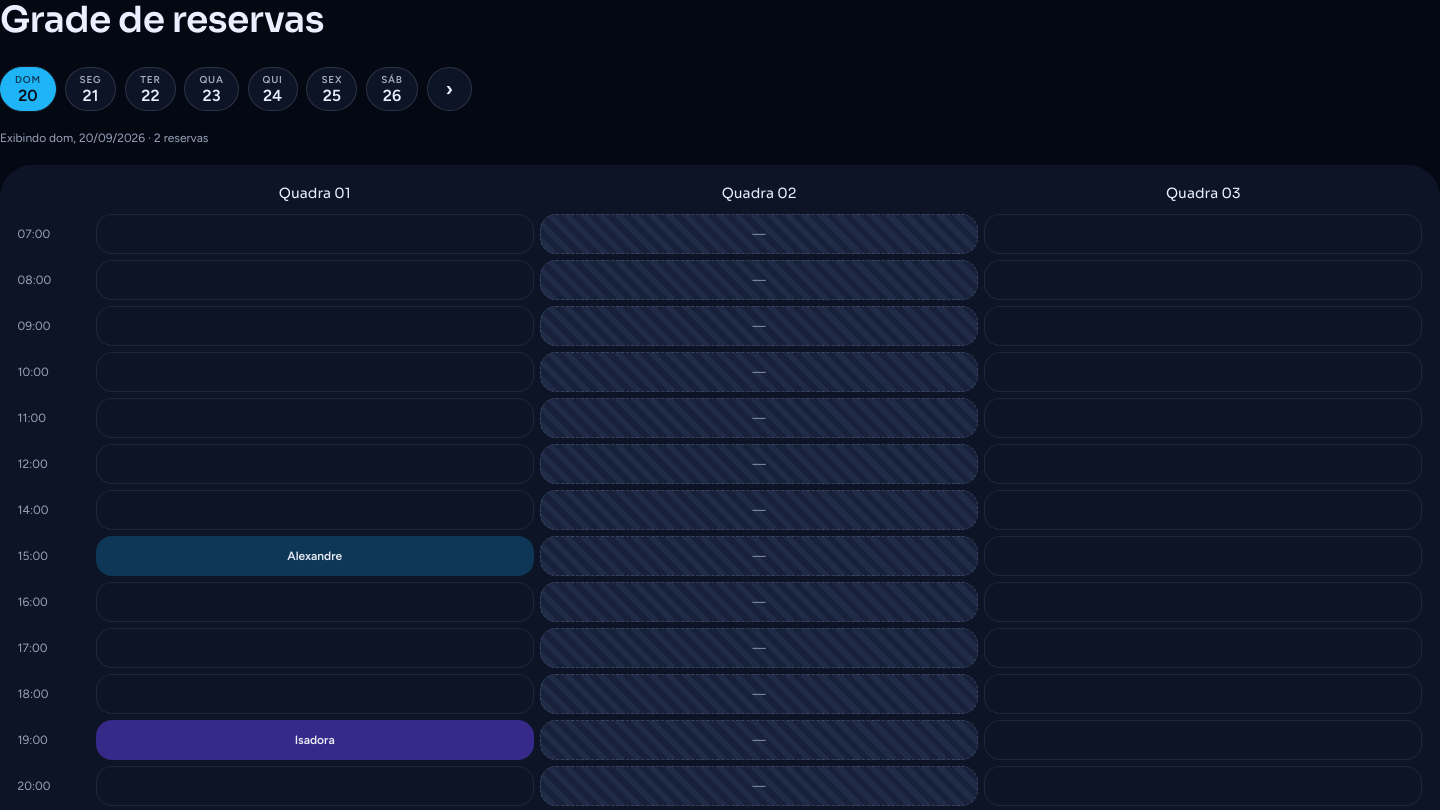
Test: GradeReservasPage › "Manter" volta ao detalhe sem cancelar
Click the button with aria-label "Quadra 01 às 15:00 — Alexandre": (315,556) [96,536,534,576]
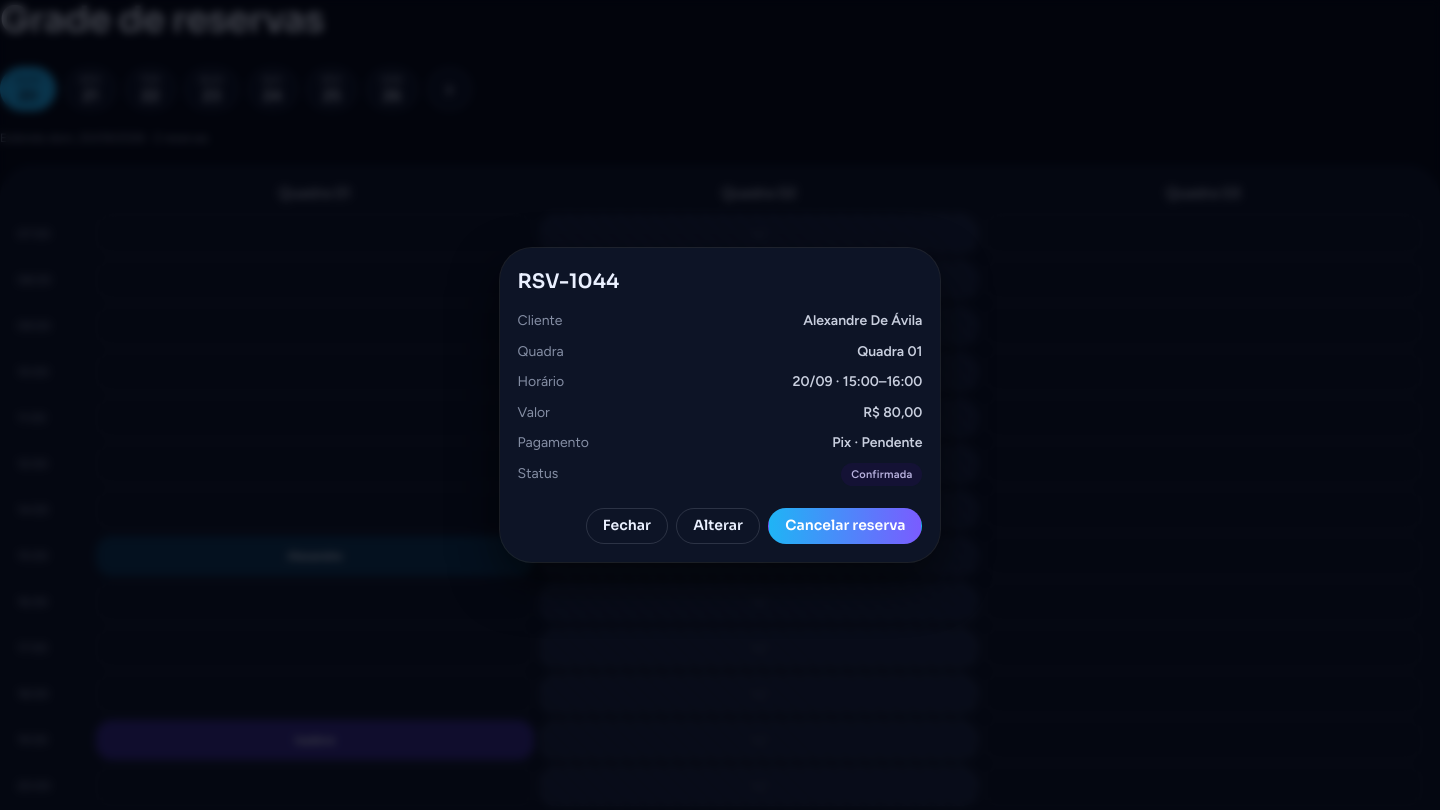
Expected: the text "Pix · Pendente" is shown, [832,432,922,454]
Click the button "Cancelar reserva": (846,526) [768,508,922,544]
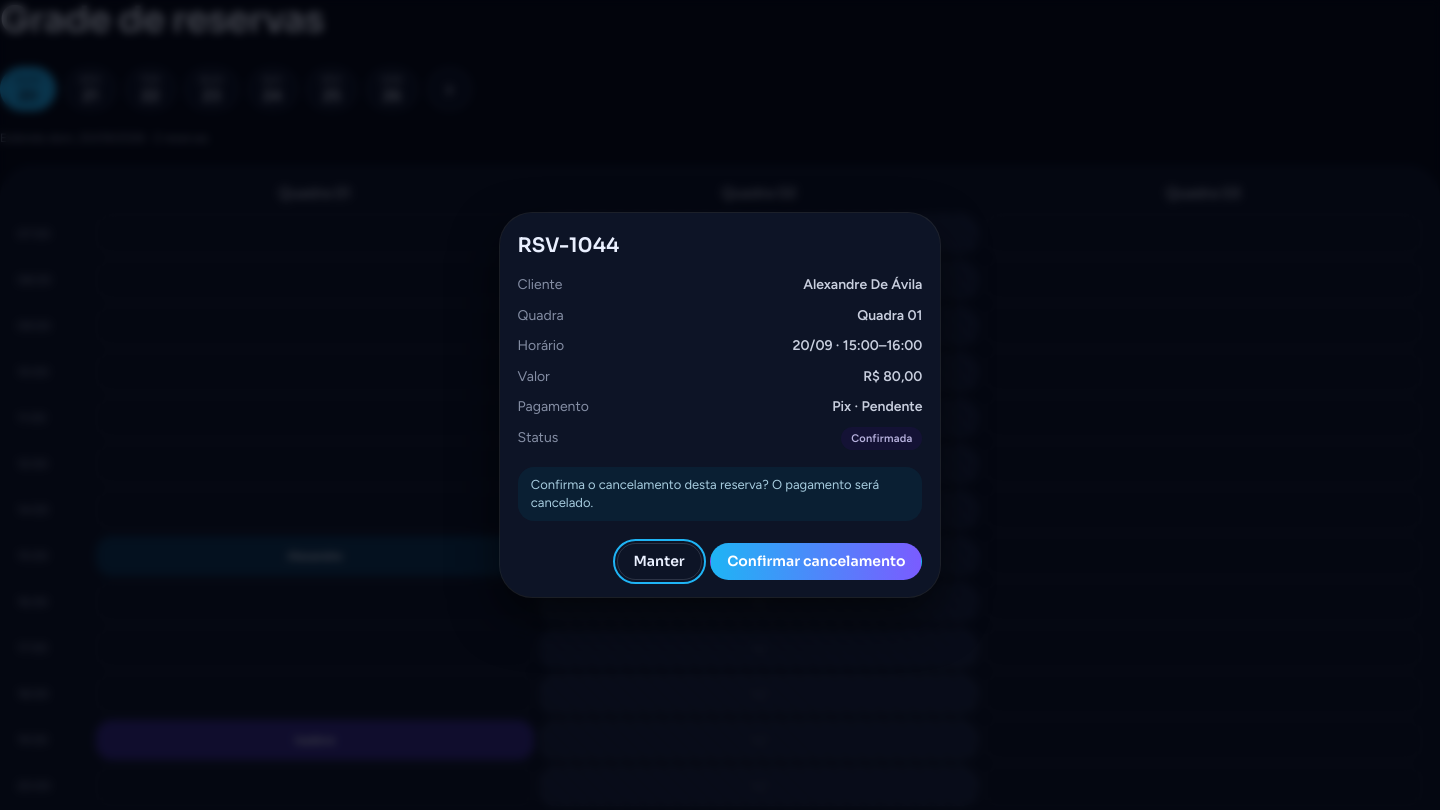
Expected: the message shows "O pagamento será cancelado.", [531,477,879,510]
Click the button "Manter": (659,562) [617,543,702,580]
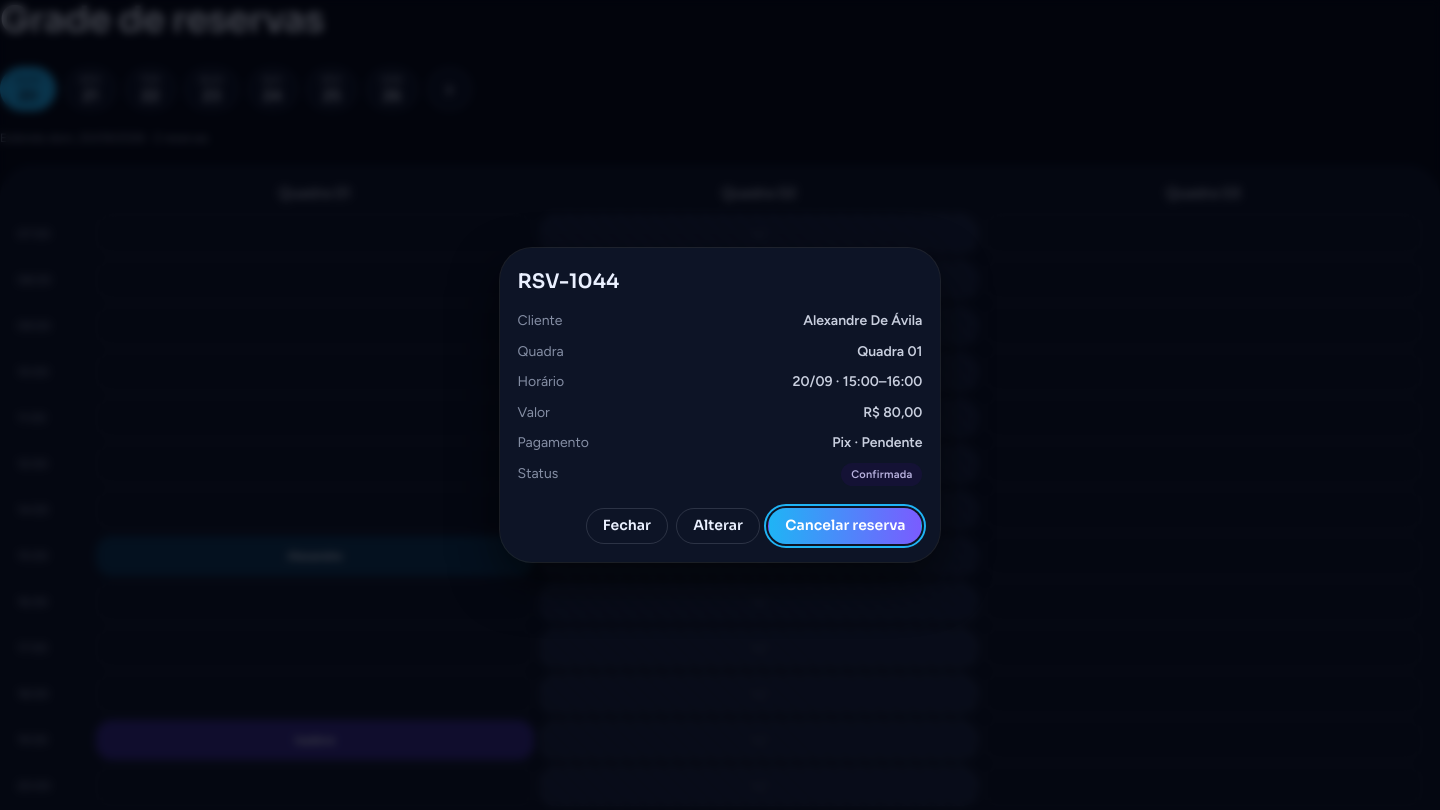
Expected: the message "Confirma o cancelamento desta reserva? O pagamento será cancelado." is gone
Expected: the button "Alterar" is shown, [676,508,760,544]
